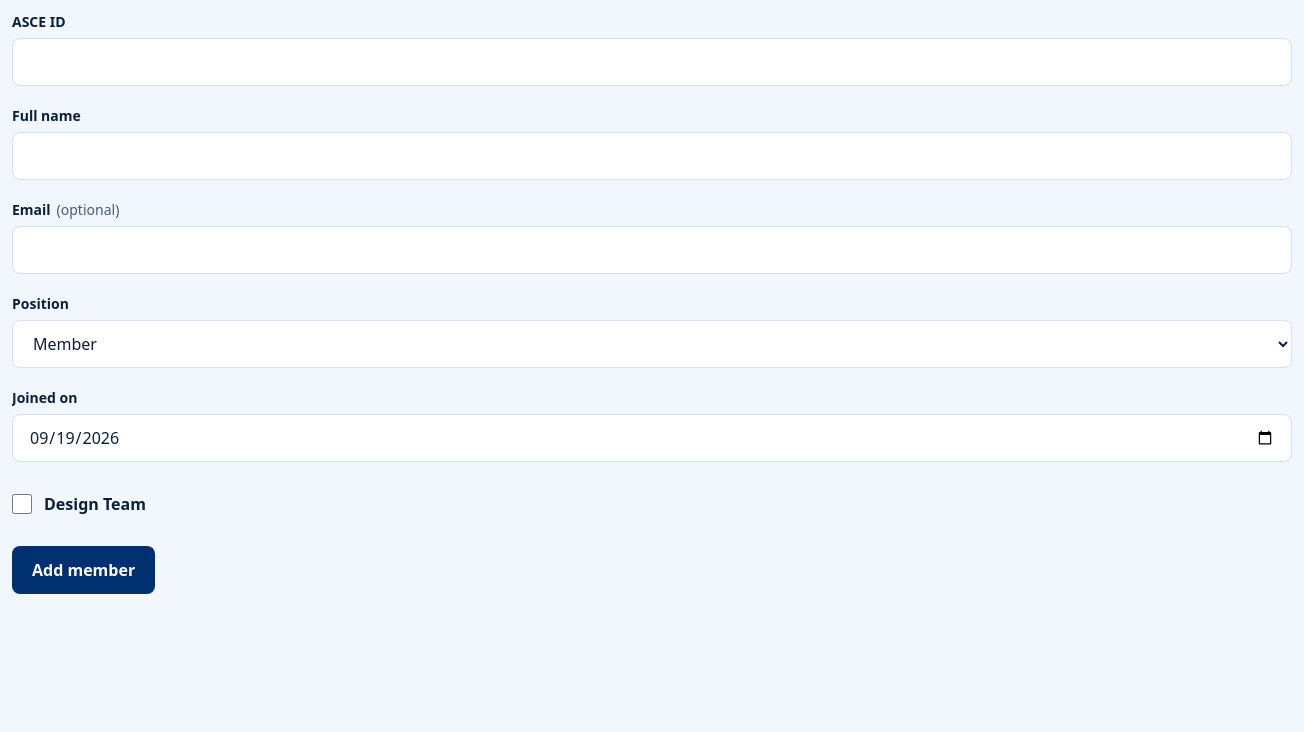
Test case: MemberForm: cargo (position) › 'Other' sin texto: el error del servidor aparece en Custom Position, con foco, y no se pierde lo elegido
This screenshot has width=1304, height=732.
Select "Other" in the dropdown labelled "Position" at (652, 344), box [12,320,1292,368]
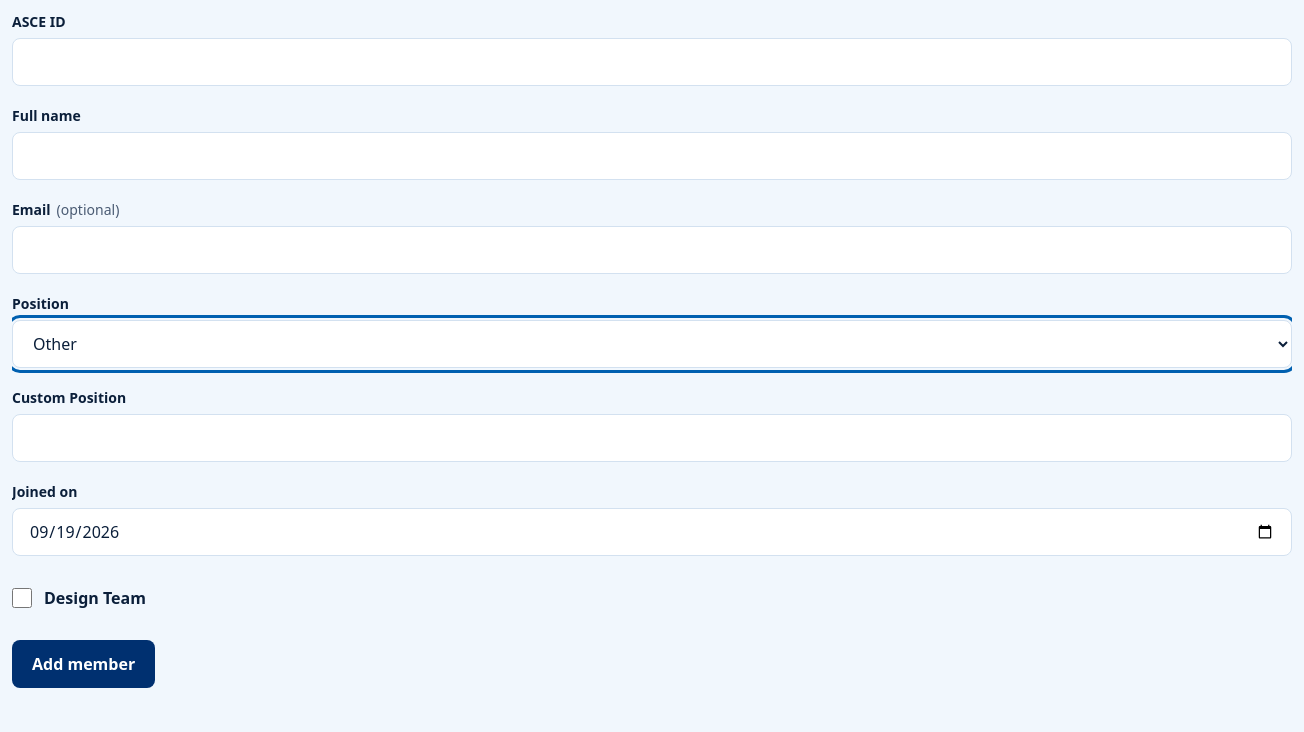
Click the button "Add member".
click(84, 664)  # box [12,640,155,688]
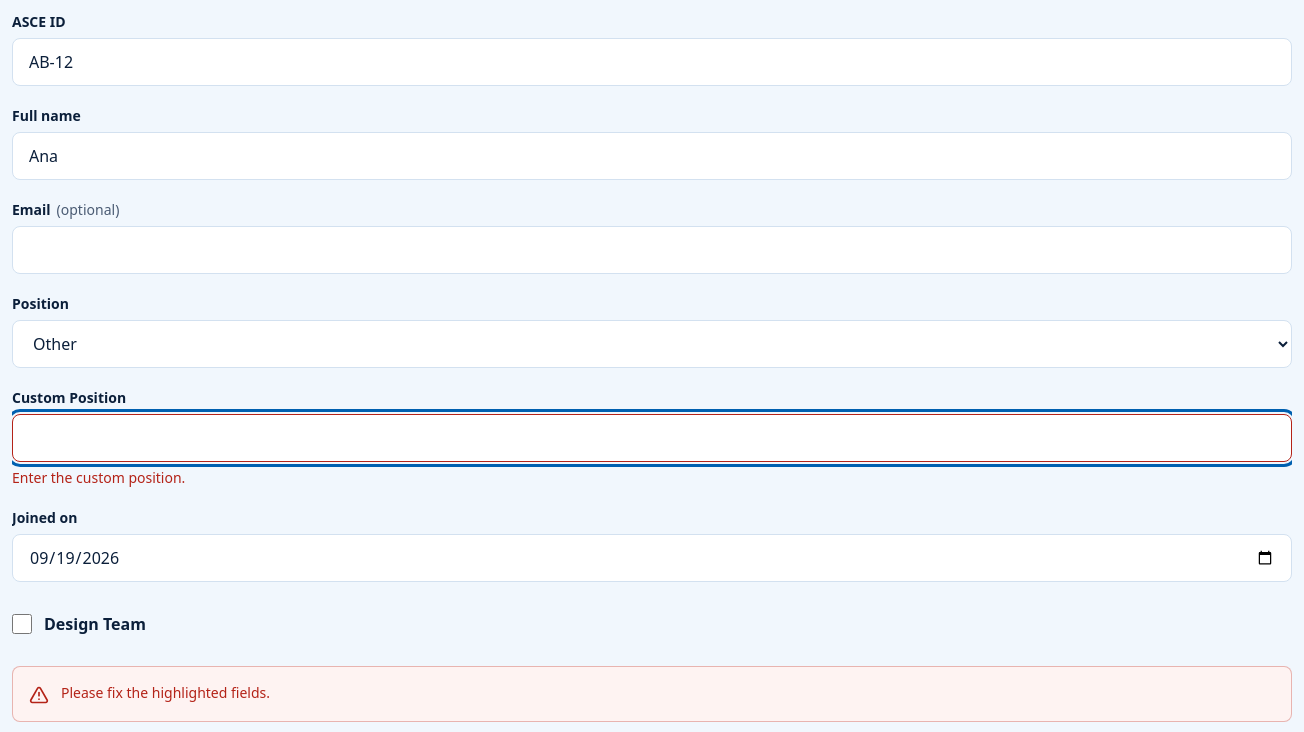
expect the dropdown labelled "Position" shows "Other": met, box [12,320,1292,368]
expect the text "Enter the custom position." is shown: met, box [12,468,185,487]
